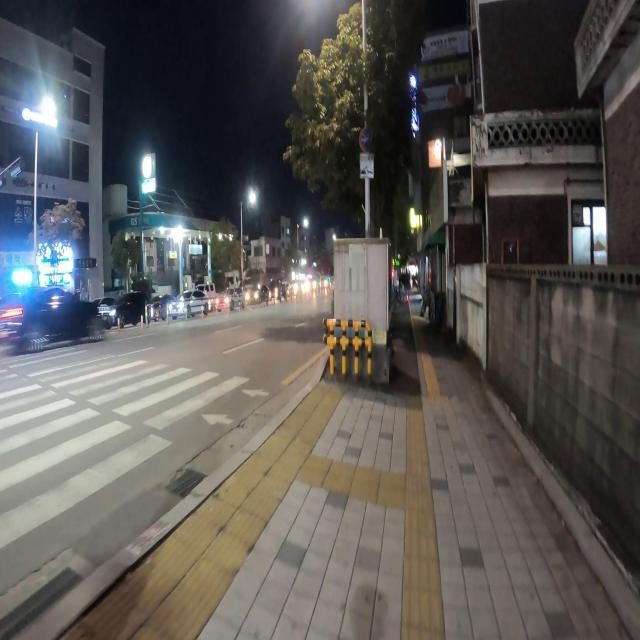crosswalk: (0, 337, 281, 551)
